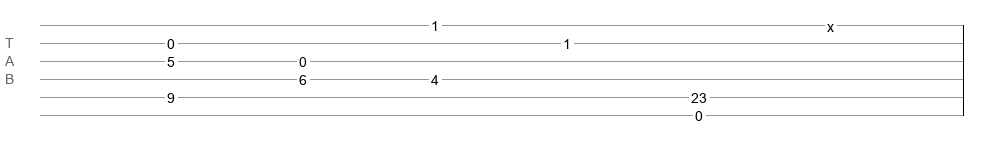0: (167, 36, 175, 46), (299, 54, 307, 64), (695, 108, 703, 118)
1: (431, 18, 439, 28), (563, 36, 571, 46)
23: (691, 90, 707, 100)
4: (431, 72, 439, 82)
5: (167, 54, 175, 64)
6: (299, 72, 307, 82)
9: (167, 90, 175, 100)
x: (827, 19, 834, 27)
